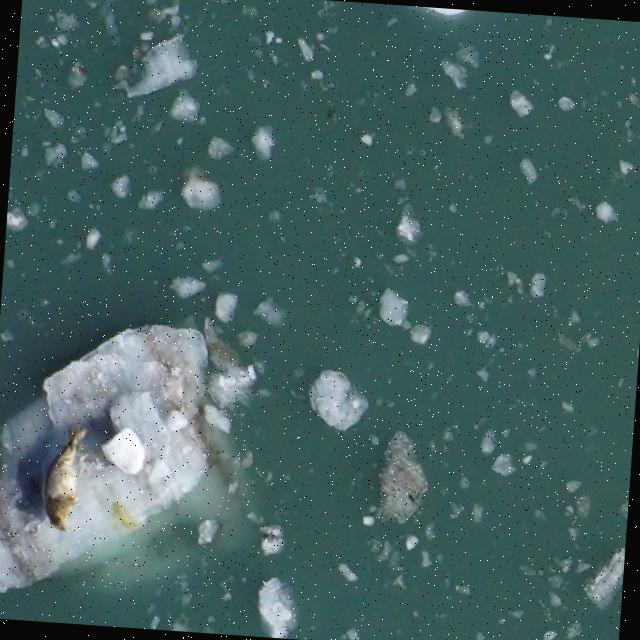seal: (36, 420, 90, 536)
